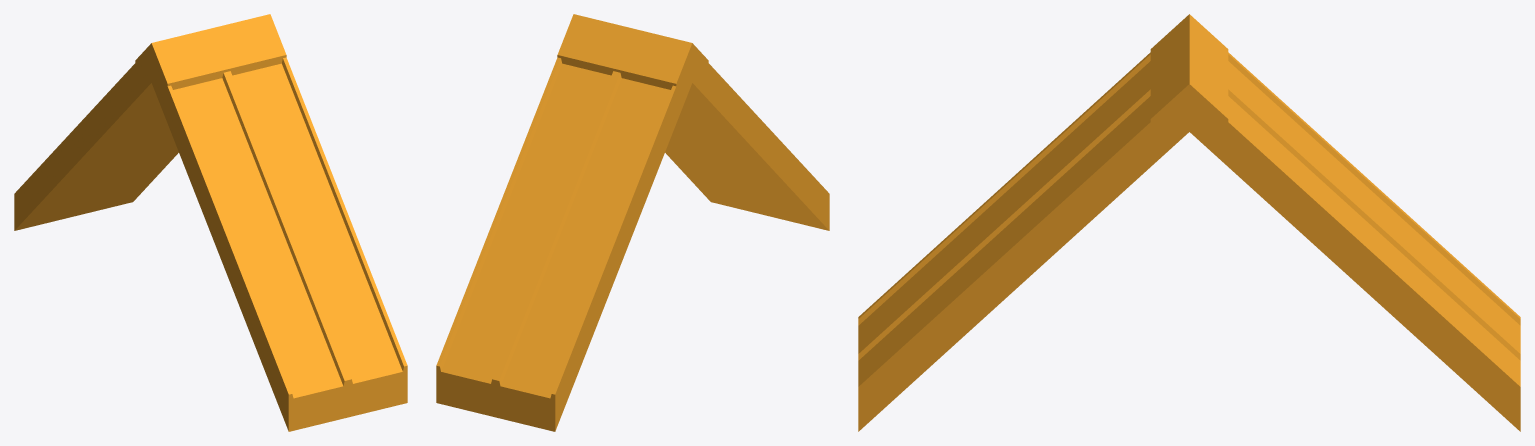
The model's file is SM_Roof_Metal_Regular_1x2m_Center.fbx.
The picture shows the model from 3 angles, left to right: view 1: azimuth 30°, elevation 25°; view 2: azimuth 150°, elevation 25°; view 3: azimuth 270°, elevation 25°; orthographic projection. The views are drawn at different scales.
Parts seen in each view (by area): view 1: roof-metal-regular-1x2m-center; view 2: roof-metal-regular-1x2m-center; view 3: roof-metal-regular-1x2m-center.
Boxes of the visible parts, x1,y1,x2,y2 form: roof-metal-regular-1x2m-center: [14, 14, 407, 431]; roof-metal-regular-1x2m-center: [436, 14, 829, 431]; roof-metal-regular-1x2m-center: [858, 14, 1520, 431].
Bounding box in the file's own units: 1 × 2.32 × 4.
